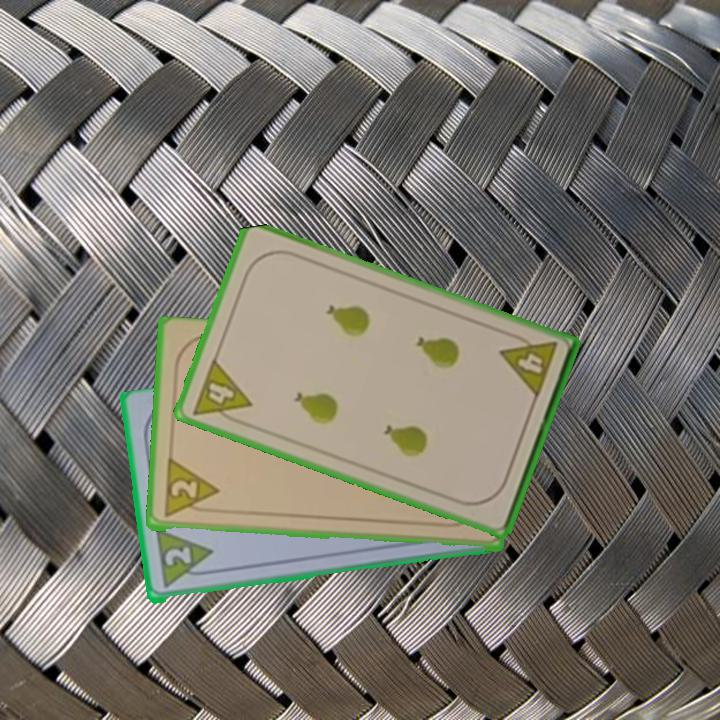2p: (152, 528, 217, 592), (159, 458, 221, 522)
4p: (188, 355, 255, 429), (496, 329, 560, 402)
